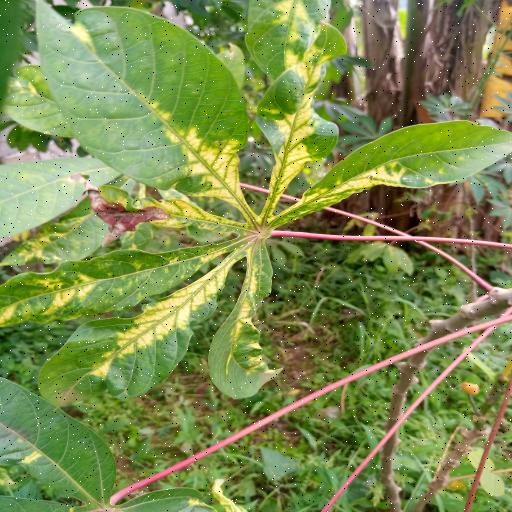Cassava_Mosaic: (0, 0, 512, 422)
